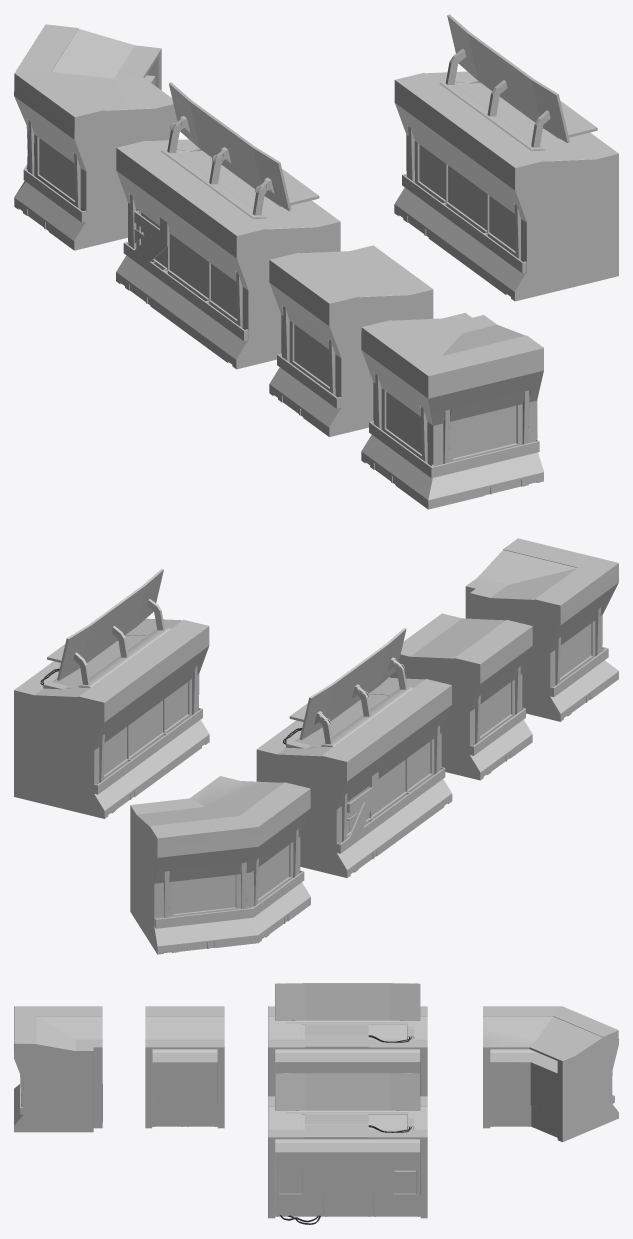
Rendered from MedReceptionScreen_Stand_after_triangulate.fbx.
3 views of the same model, one above another, from view 1: azimuth 30°, elevation 25°; view 2: azimuth 150°, elevation 25°; view 3: azimuth 270°, elevation 25° (orthographic). The views are drawn at different scales.
Parts seen in each view (by area): view 1: Table_MedUnit, Table_90, Table, Table_45, Table_Short, Screens, Screens_MedUnit, Backplate_Z, Backplate_MedUnit; view 2: Table_45, Table_MedUnit, Table, Table_90, Table_Short, Screens, Screens_MedUnit, Backplate_Z, Backplate_MedUnit; view 3: Table_45, Table_MedUnit, Table_90, Table_Short, Screens, Screens_MedUnit, Table, Table_Cover_MedUnit.
Part boxes in pixels (box(x1,y1,x2,y2)): Table_MedUnit: box(394, 71, 618, 301); Table_90: box(361, 313, 543, 509); Table: box(116, 139, 340, 369); Table_45: box(14, 24, 177, 250); Table_Short: box(269, 245, 433, 436); Screens: box(161, 82, 319, 218); Screens_MedUnit: box(439, 14, 597, 150); Backplate_Z: box(123, 210, 247, 340); Backplate_MedUnit: box(402, 174, 526, 273); Table_45: box(130, 776, 310, 954); Table_MedUnit: box(14, 618, 209, 818); Table: box(256, 678, 452, 877); Table_90: box(465, 538, 618, 721); Table_Short: box(389, 613, 532, 780); Screens: box(283, 628, 412, 746); Screens_MedUnit: box(40, 569, 170, 687); Backplate_Z: box(337, 767, 445, 853); Backplate_MedUnit: box(94, 708, 202, 794); Table_45: box(483, 1006, 618, 1142); Table_MedUnit: box(268, 1096, 427, 1218); Table_90: box(14, 1006, 102, 1132); Table_Short: box(145, 1006, 224, 1128); Screens: box(275, 983, 420, 1048); Screens_MedUnit: box(275, 1073, 420, 1138); Table: box(268, 1006, 427, 1096); Table_Cover_MedUnit: box(275, 1195, 322, 1216).
Size of the model in its own units: 386 by 176 by 758.
